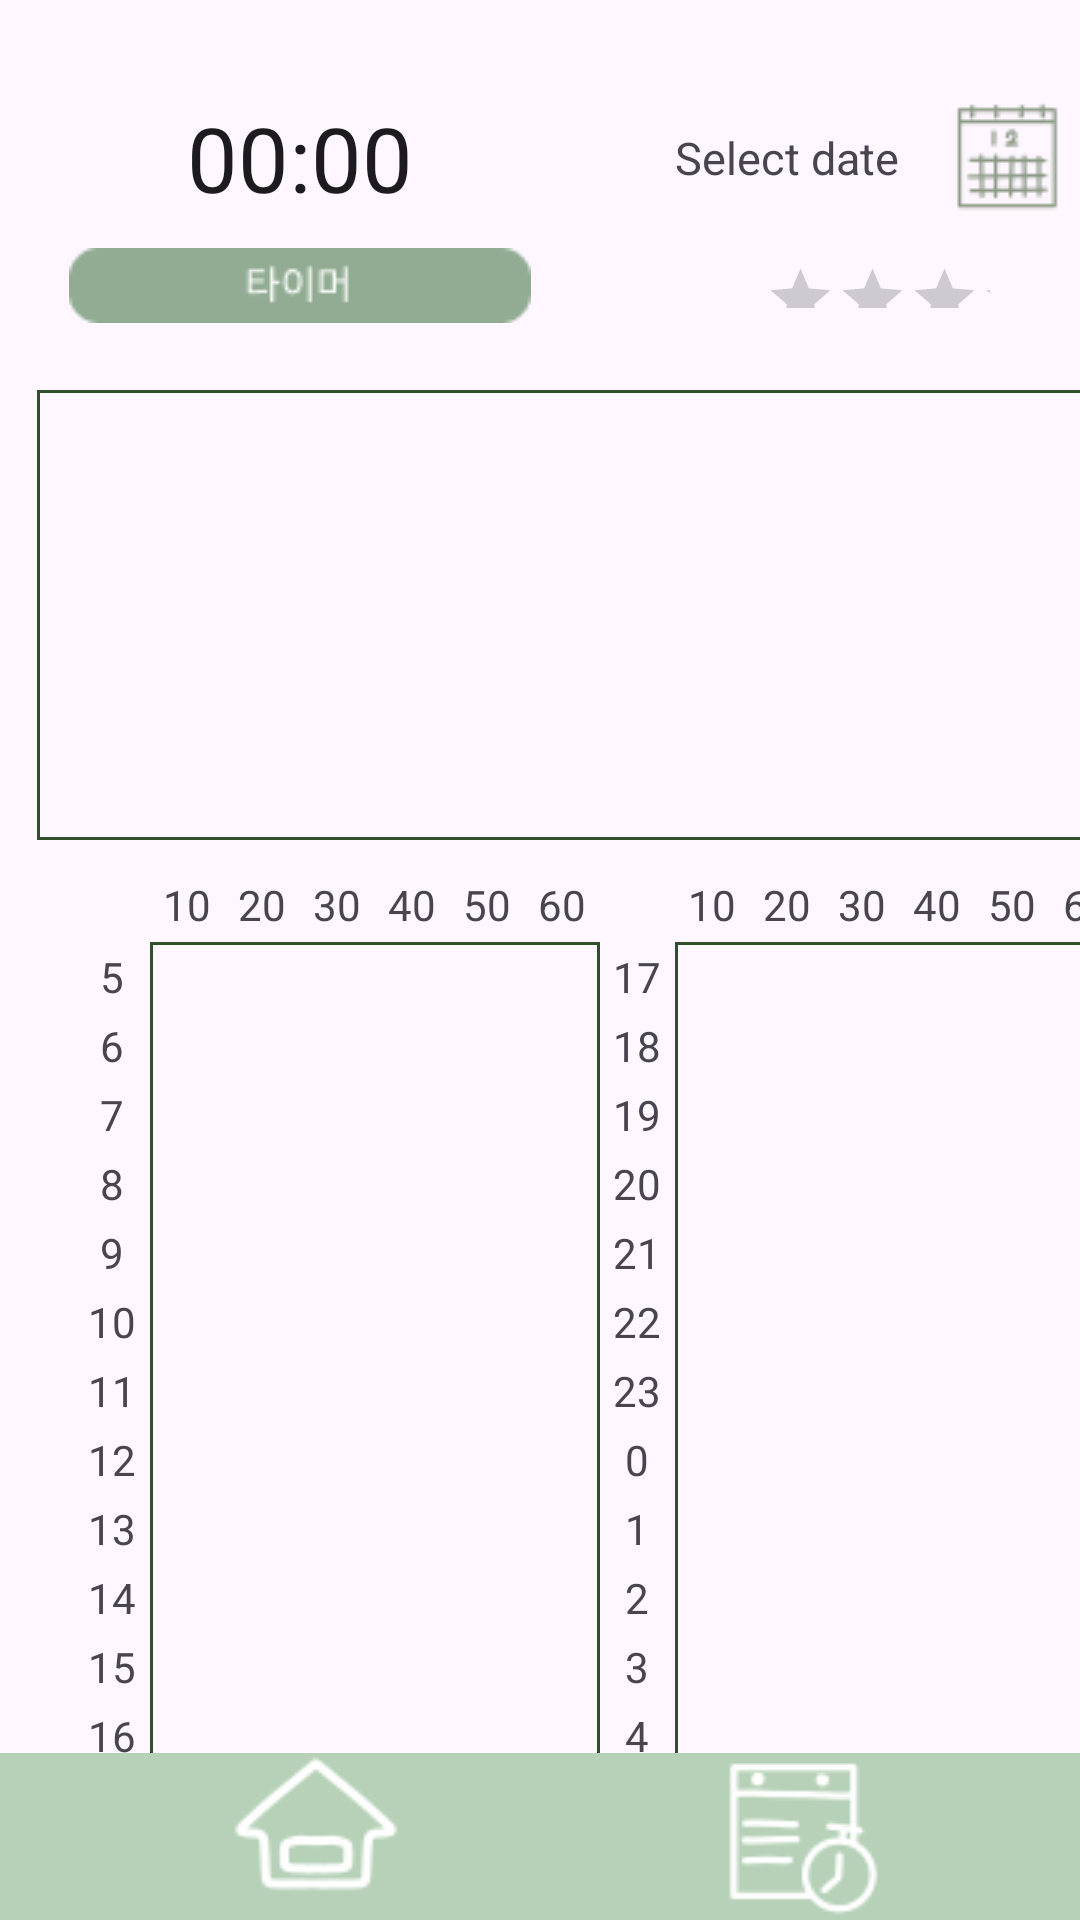

Icon bounding boxes for this 1080 x 1920 phone screenshot, format (x1, y1, x2, y2):
date pick: (957, 104, 1058, 209)
home: (235, 1758, 397, 1890)
planner: (730, 1764, 877, 1913)
